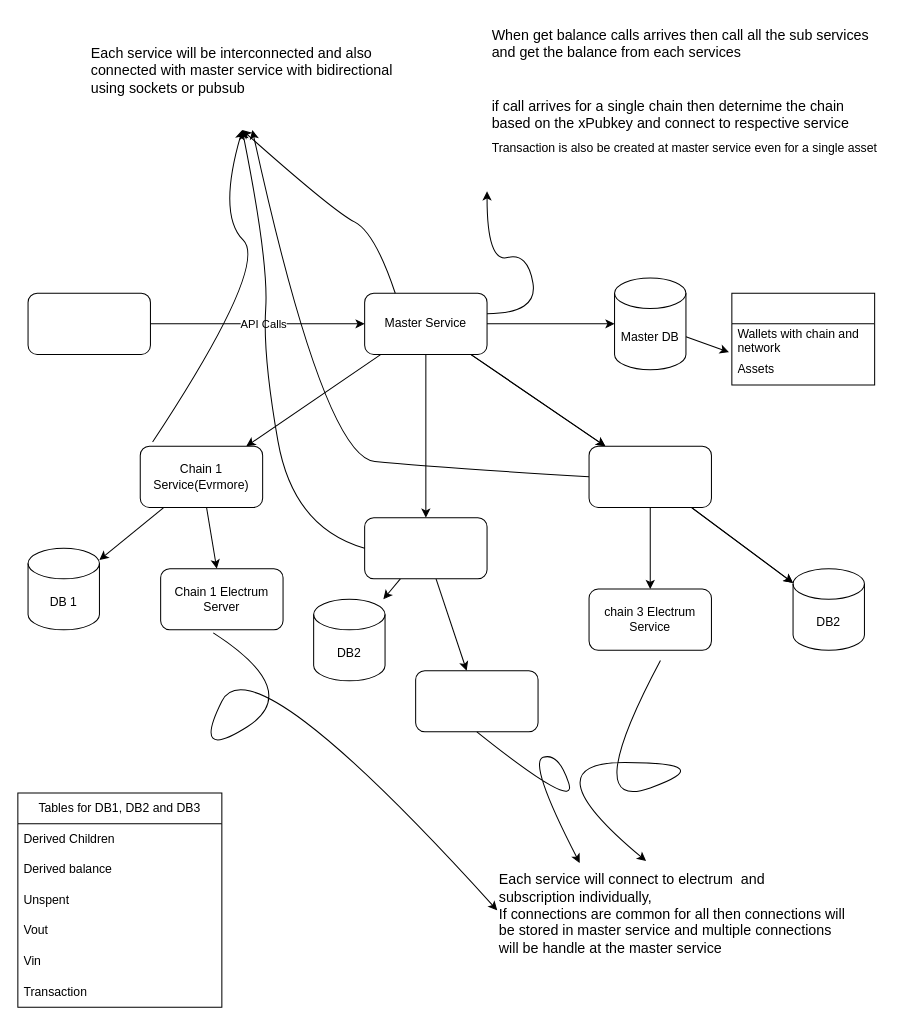
Some shapes in this 903 by 1025 pixel diagram are drawn without their labels. Here are the shapes that lost their labels. From the top down, the box of each, then its label:
(27, 292, 150, 354): Client Side App
(731, 292, 875, 385): Tables
(588, 445, 711, 507): chain 3 service(Satori)
(364, 517, 487, 579): Chain 2 Service(Ravencoin)
(415, 670, 538, 732): Chain 2 Electrum Server
